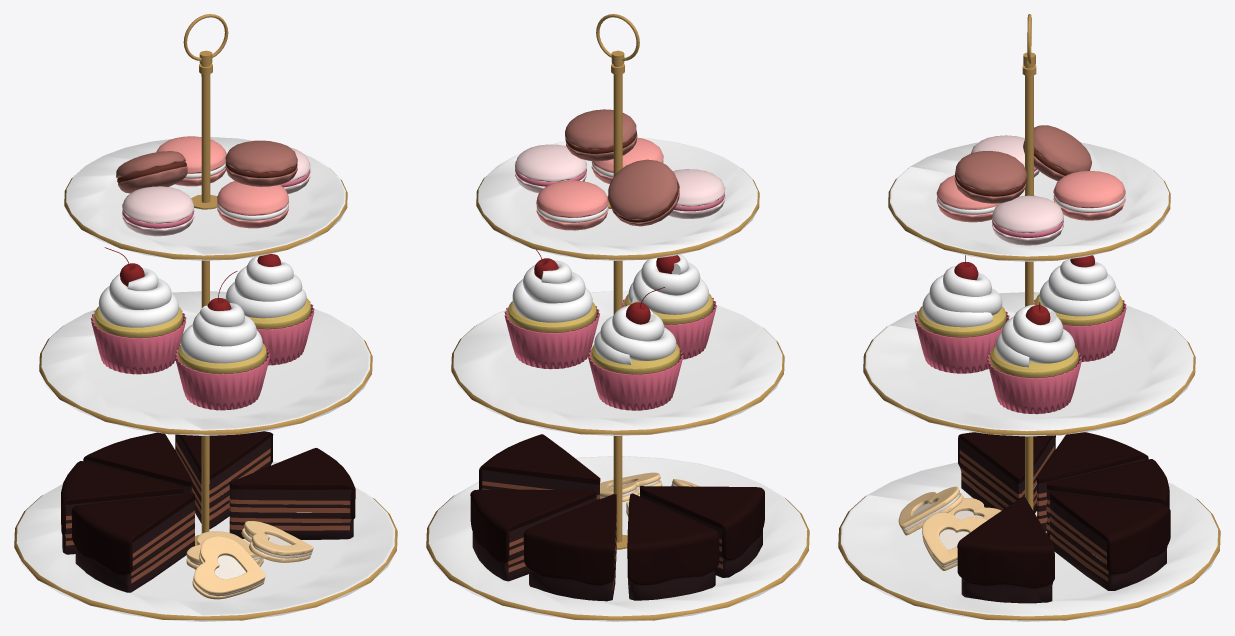
Rendered from sk625caf27.glb.
3 renders of one model, left to right at view 1: azimuth 30°, elevation 25°; view 2: azimuth 150°, elevation 25°; view 3: azimuth 270°, elevation 25°, orthographic.
Parts seen in each view (by area): view 1: polySurface45, polySurface103, polySurface46, polySurface61, polySurface58, polySurface60, polySurface62, polySurface91, polySurface65, polySurface63, polySurface59, polySurface89 (+19 smaller); view 2: polySurface45, polySurface103, polySurface46, polySurface59, polySurface62, polySurface60, polySurface61, polySurface58, polySurface65, polySurface91, polySurface48, polySurface63 (+14 smaller); view 3: polySurface45, polySurface103, polySurface46, polySurface60, polySurface58, polySurface61, polySurface59, polySurface62, polySurface91, polySurface63, polySurface65, polySurface74 (+16 smaller).
Boxes of the visible parts, x1,y1,x2,y2 form: polySurface45: (39,291,372,435); polySurface103: (14,461,397,621); polySurface46: (64,137,347,260); polySurface61: (71,493,194,592); polySurface58: (229,448,355,539); polySurface60: (175,431,273,529); polySurface62: (61,461,183,554); polySurface91: (180,303,262,363); polySurface65: (225,256,306,318); polySurface63: (98,268,178,327); polySurface59: (83,432,191,494); polySurface89: (174,346,269,410); polySurface45: (451,291,784,435); polySurface103: (426,456,809,621); polySurface46: (476,138,759,260); polySurface59: (523,494,616,601); polySurface62: (627,493,719,600); polySurface60: (470,489,596,581); polySurface61: (639,486,764,577); polySurface58: (479,434,600,500); polySurface65: (512,260,592,322); polySurface91: (628,254,709,314); polySurface48: (608,159,677,219); polySurface63: (594,305,676,364); polySurface45: (863,292,1195,436); polySurface103: (838,462,1220,621); polySurface46: (888,142,1170,261); polySurface60: (1050,491,1170,590); polySurface58: (957,497,1054,603); polySurface61: (958,432,1055,513); polySurface59: (1046,459,1169,547); polySurface62: (1036,432,1148,531); polySurface91: (922,265,1002,327); polySurface63: (1039,259,1119,316); polySurface65: (995,304,1074,367); polySurface74: (986,351,1081,414).
Bounding box in the file's own units: 0.2477 × 0.38 × 0.2468.
